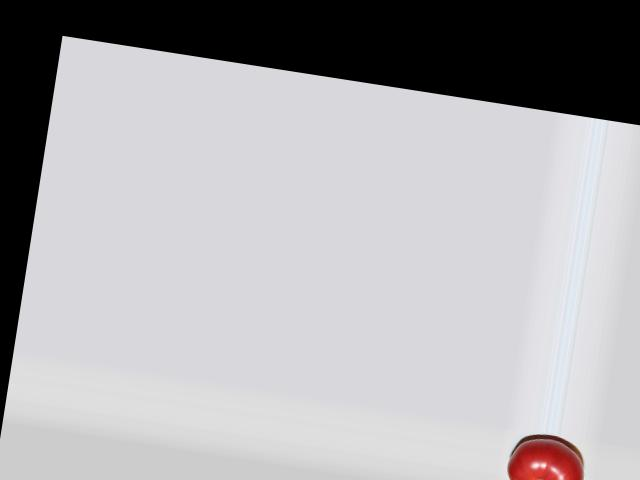tomato: (502, 434, 589, 480)
